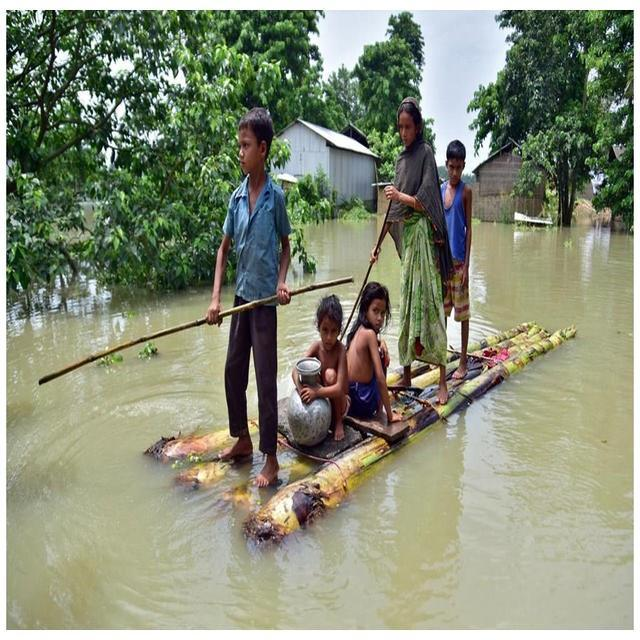Person-RiskLevel3: (197, 97, 299, 503), (374, 79, 468, 409), (427, 139, 490, 388), (344, 279, 418, 437), (295, 280, 358, 454)
